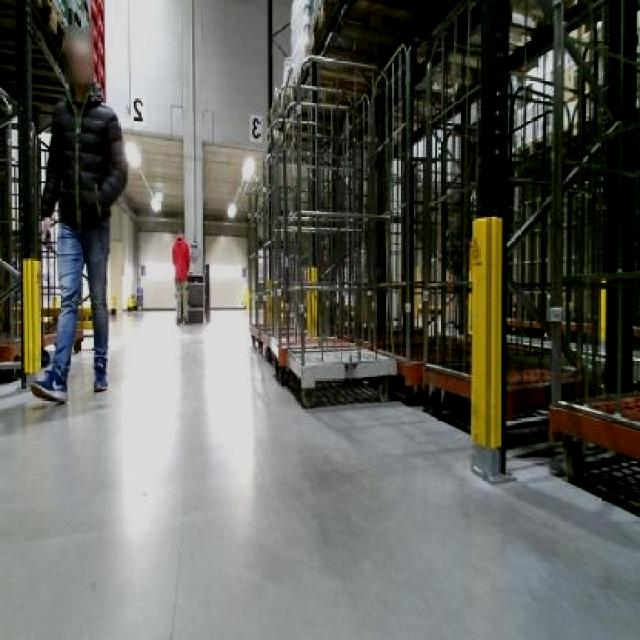floor: (0, 309, 637, 637)
pallets: (546, 398, 637, 478), (277, 346, 395, 405)
